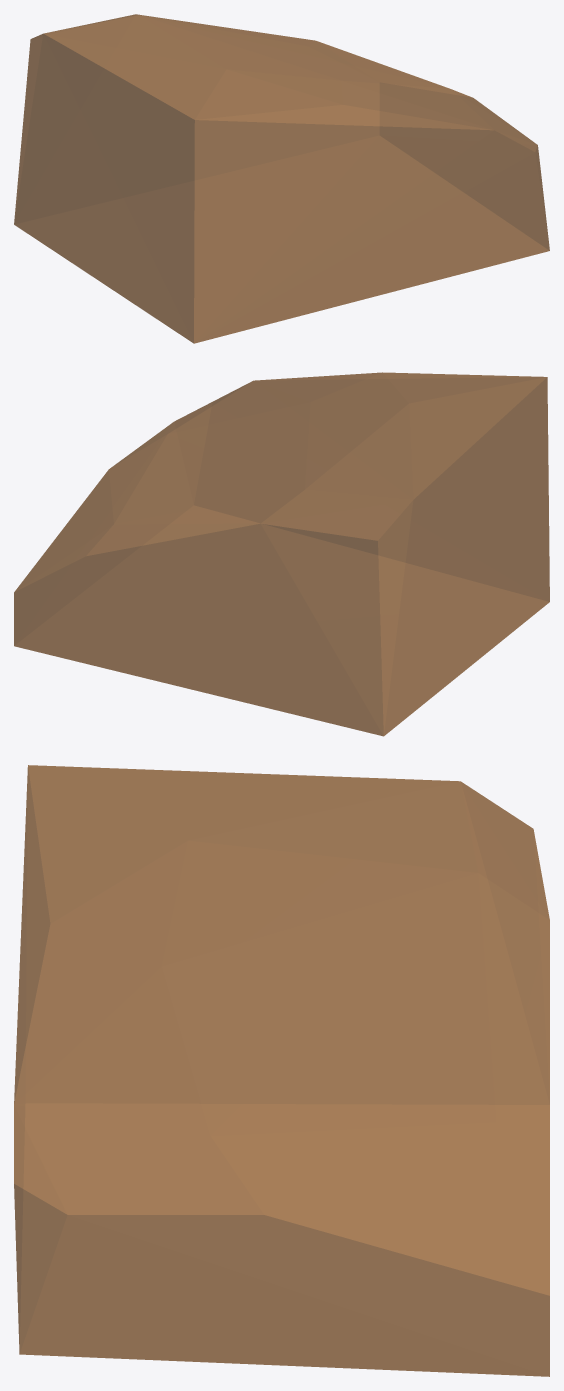
3 views of the same model, one above another, from view 1: azimuth 30°, elevation 25°; view 2: azimuth 150°, elevation 25°; view 3: azimuth 270°, elevation 25° (orthographic). The views are drawn at different scales.
Parts seen in each view (by area): view 1: Shape_IndexedFaceSet.030_Shape_IndexedFaceSet.459; view 2: Shape_IndexedFaceSet.030_Shape_IndexedFaceSet.459; view 3: Shape_IndexedFaceSet.030_Shape_IndexedFaceSet.459.
Part boxes in pixels (x1,y1,x2,y2): Shape_IndexedFaceSet.030_Shape_IndexedFaceSet.459: [14, 14, 549, 343]; Shape_IndexedFaceSet.030_Shape_IndexedFaceSet.459: [14, 372, 549, 736]; Shape_IndexedFaceSet.030_Shape_IndexedFaceSet.459: [14, 765, 549, 1376].
Bounding box in the file's own units: 0.1526 × 0.0909 × 0.1272.
